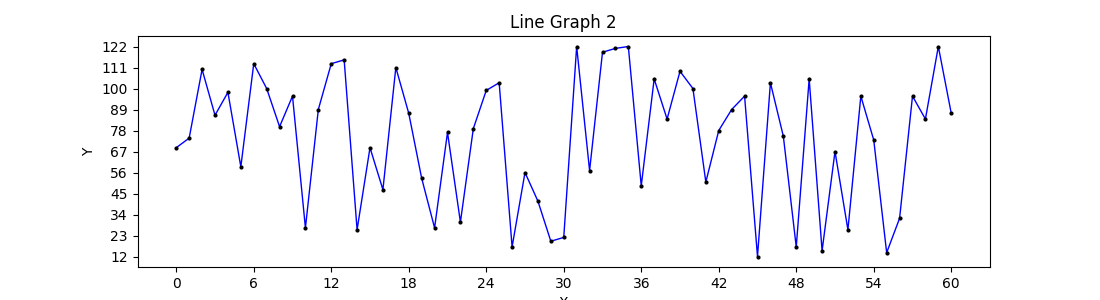cvs: (138, 36, 990, 267)
